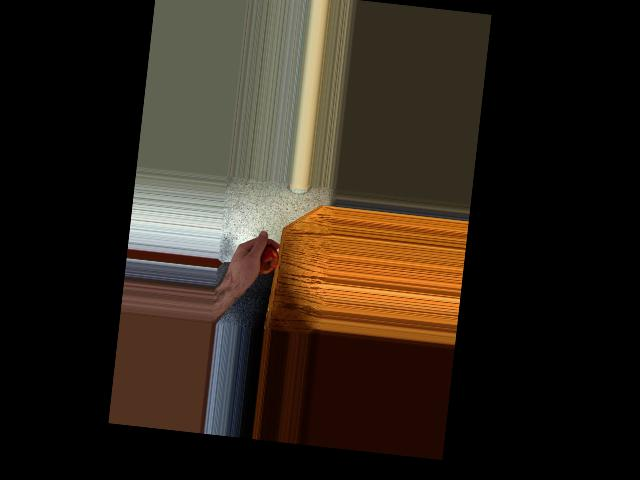apple: (245, 240, 280, 282)
